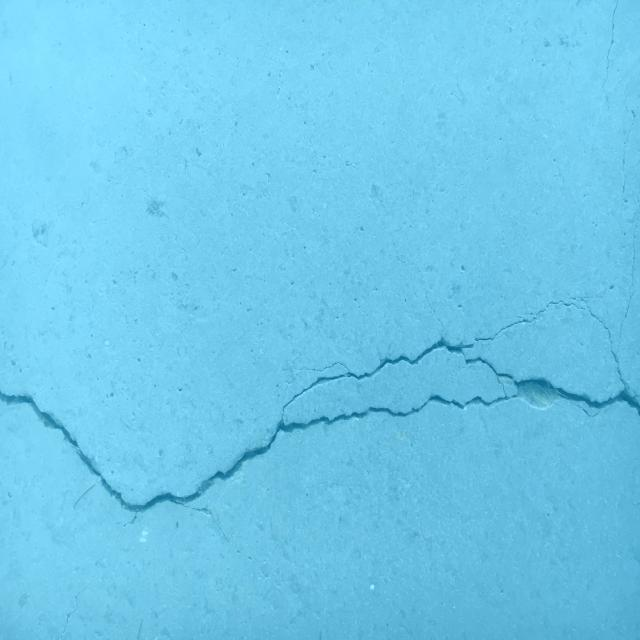crack: (0, 224, 640, 586), (60, 579, 94, 640), (601, 0, 619, 101), (621, 110, 636, 203)
